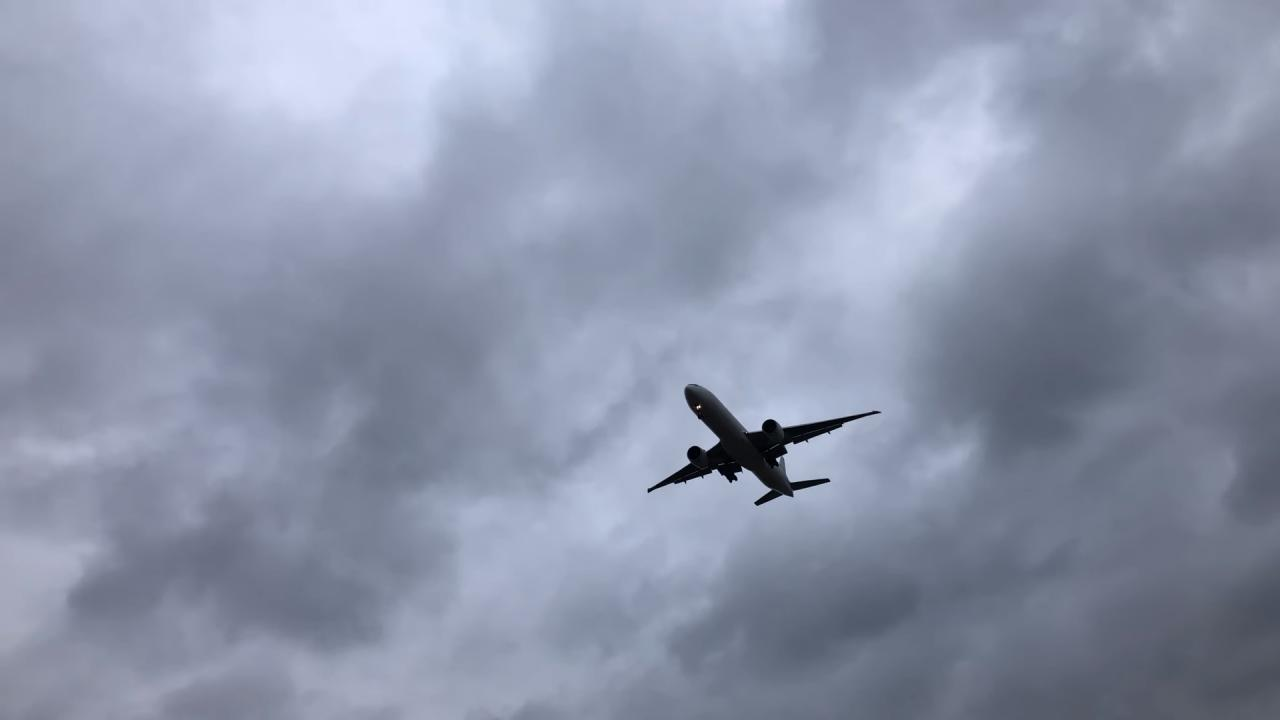Airplane: (638, 372, 894, 522)
